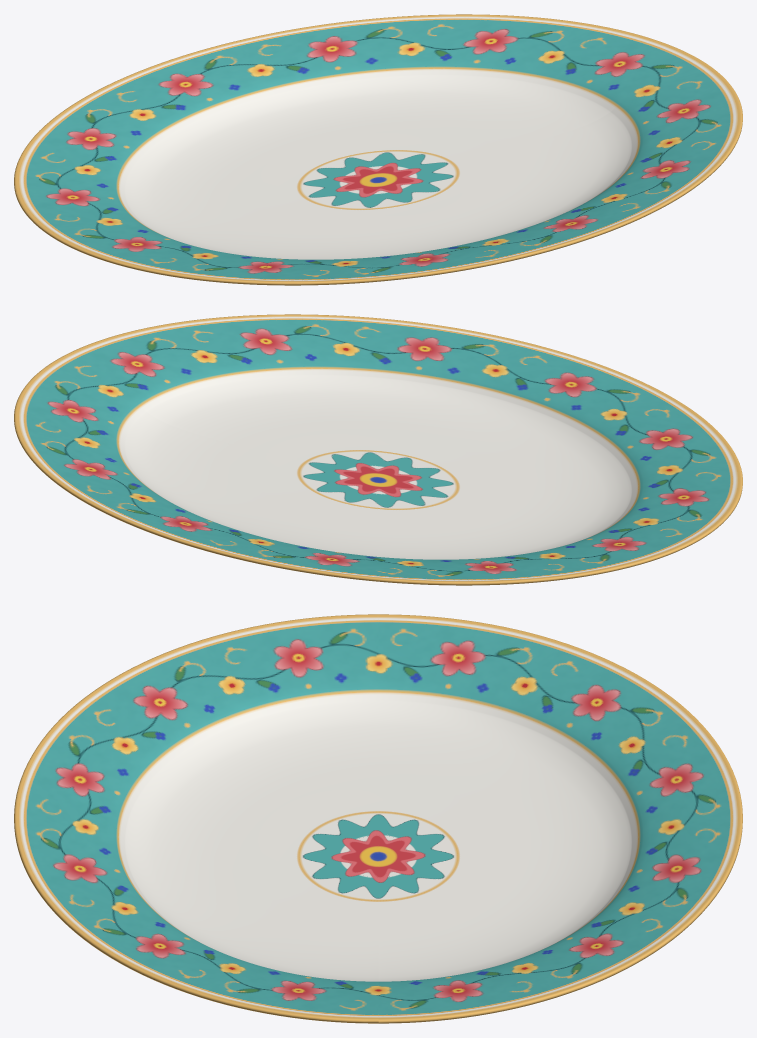
File: imperial-platter.glb
3 renders of one model, top to bottom at view 1: azimuth 30°, elevation 25°; view 2: azimuth 150°, elevation 25°; view 3: azimuth 270°, elevation 25°, orthographic. The views are drawn at different scales.
Parts seen in each view (by area): view 1: imperial-platter; view 2: imperial-platter; view 3: imperial-platter.
Boxes of the visible parts, box(x1,y1,x2,y2) form: imperial-platter: box(14, 14, 742, 285); imperial-platter: box(14, 314, 742, 585); imperial-platter: box(14, 614, 742, 1023).
Bounding box in the file's own units: 0.3964 × 0.0262 × 0.3003.
1 material, 1 textured.
